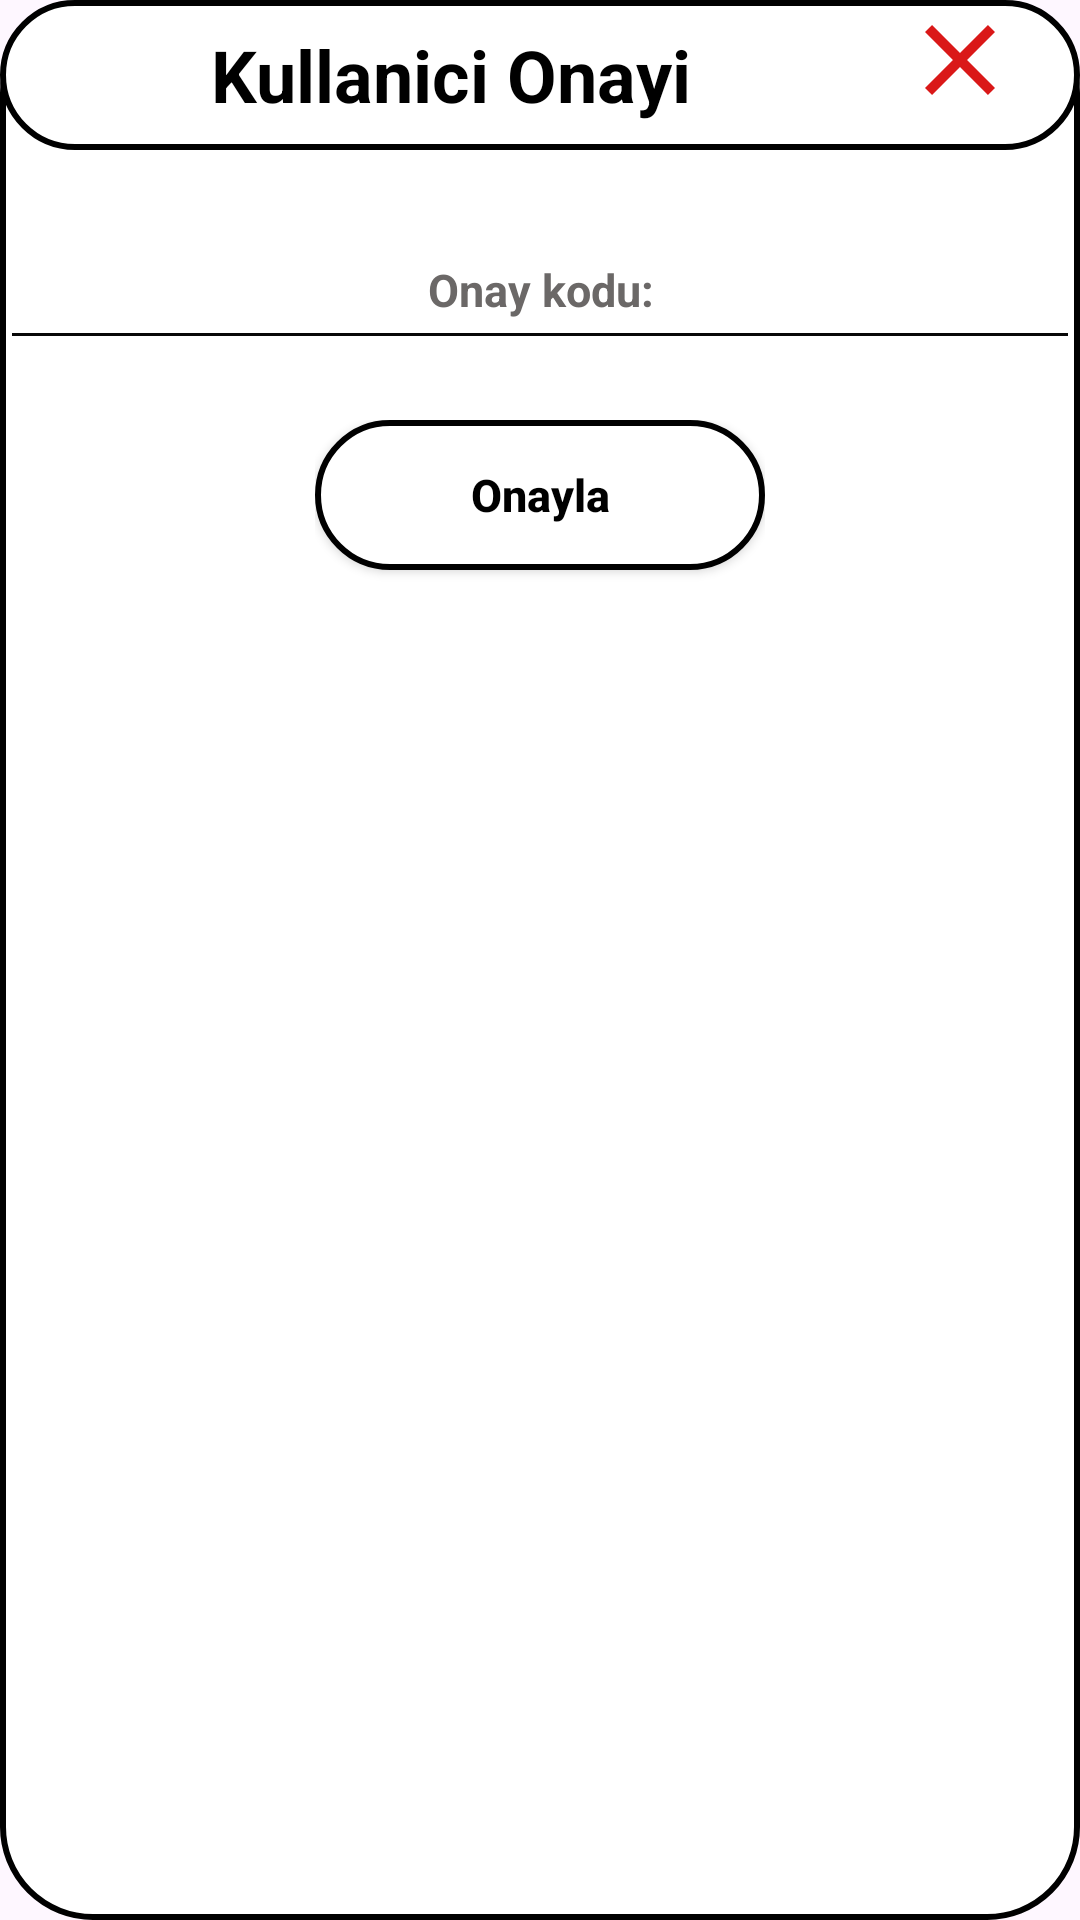

Point at icon controls on the screen. Image size 1080 x 1920, points as point (x, y).
close: point (960, 60)
